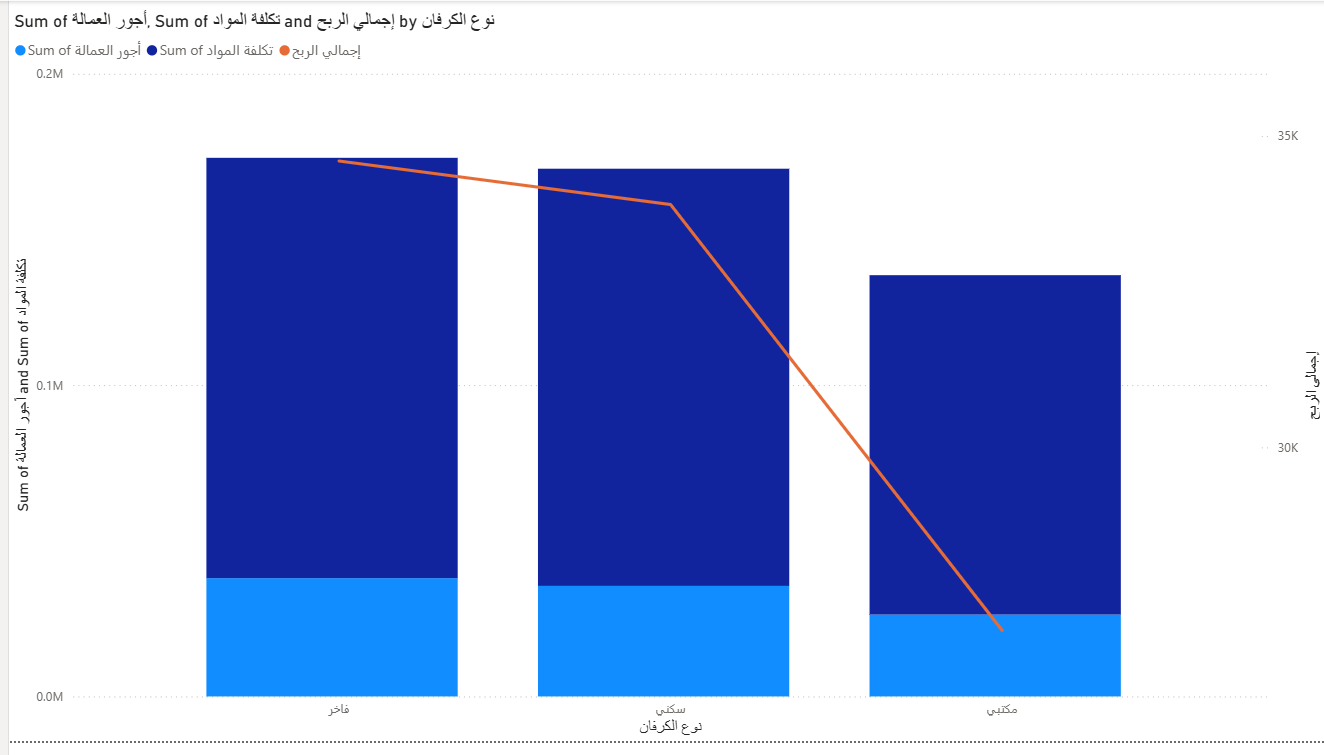

What the dashboard file says about the page in this screenshot:
{"tool":"powerbi","page":{"name":"Page 2","canvas":[1280,720],"ordinal":1},"visuals":[{"type":"lineStackedColumnComboChart","fields":{"Category":["My_Data.نوع الكرفان"],"Y":["Sum(My_Data.أجور العمالة)","Sum(My_Data.تكلفة المواد)"],"Y2":["My_Data.إجمالي الربح"]},"box":[0,8.8,1280,711],"z":0}]}

Visuals, with their boxes in screenshot pixels (x1, y1, x2, y2), scaled from the page's 1280x720 canvas onto the 1324x755 screenshot:
lineStackedColumnComboChart - My_Data.نوع الكرفان x Sum(My_Data.أجور العمالة): [x1=0, y1=9, x2=1323, y2=754]
